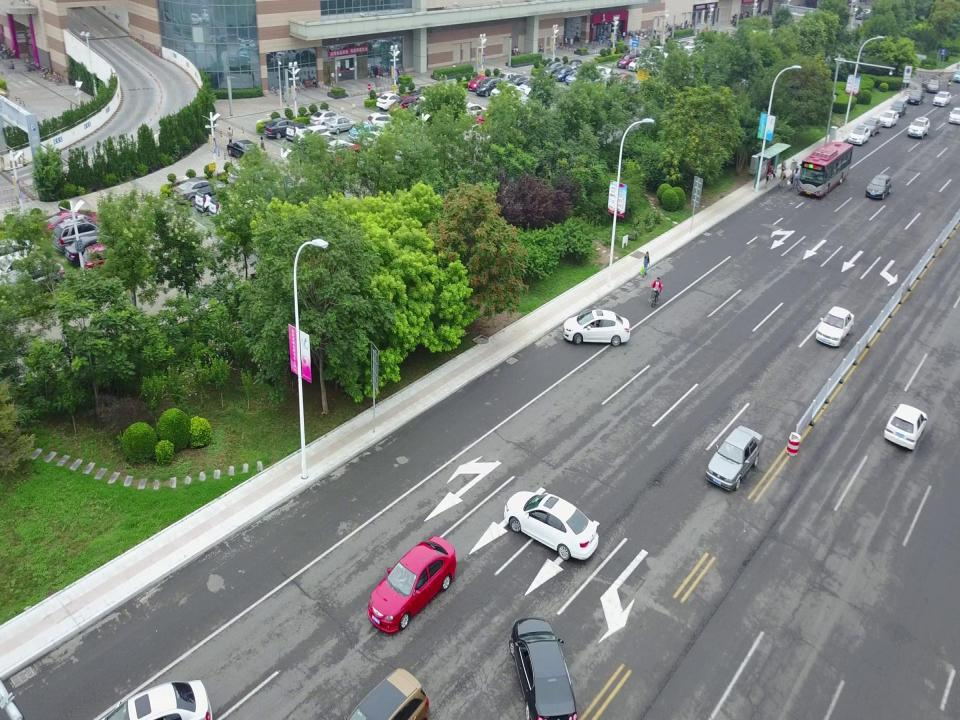bus: (797, 141, 853, 197)
car: (368, 536, 456, 633), (508, 617, 578, 720), (504, 490, 598, 560), (90, 679, 212, 720), (705, 426, 763, 491), (0, 260, 64, 301), (562, 309, 630, 347), (39, 209, 103, 241), (64, 233, 124, 267), (884, 404, 928, 449), (816, 306, 854, 347), (172, 177, 224, 206), (0, 238, 34, 268), (332, 143, 370, 169), (318, 139, 358, 162), (306, 134, 344, 158), (227, 139, 261, 163), (348, 121, 382, 145), (264, 118, 300, 140), (460, 123, 490, 147), (453, 102, 487, 123), (401, 102, 438, 121), (364, 131, 398, 151), (472, 110, 506, 129), (866, 174, 891, 199), (408, 86, 442, 104), (324, 115, 356, 134), (419, 90, 449, 109), (490, 83, 520, 102), (376, 93, 408, 110), (504, 75, 530, 93), (508, 88, 534, 105), (848, 126, 870, 146), (517, 80, 545, 95), (495, 72, 521, 87), (529, 86, 555, 101), (586, 66, 612, 81), (861, 118, 881, 136), (565, 70, 589, 85), (878, 110, 898, 127), (468, 75, 489, 91), (552, 66, 574, 81), (628, 57, 651, 71), (932, 91, 952, 106), (889, 101, 907, 117), (922, 78, 941, 93), (566, 59, 586, 73), (907, 89, 923, 105), (948, 107, 960, 124), (951, 70, 960, 82)
van: (330, 668, 429, 720), (52, 217, 112, 255), (0, 251, 47, 291), (82, 243, 136, 275), (221, 200, 271, 234), (194, 188, 242, 215), (208, 192, 254, 220), (297, 125, 331, 150), (367, 112, 401, 132), (390, 95, 418, 117), (310, 109, 342, 128), (476, 76, 502, 97), (286, 123, 310, 143), (908, 117, 930, 138), (541, 61, 563, 79), (617, 54, 635, 70)
